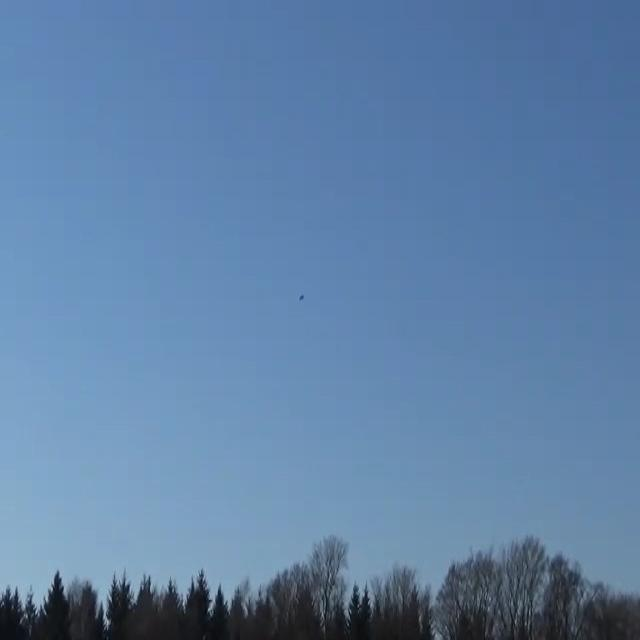bird: (296, 291, 308, 301)
